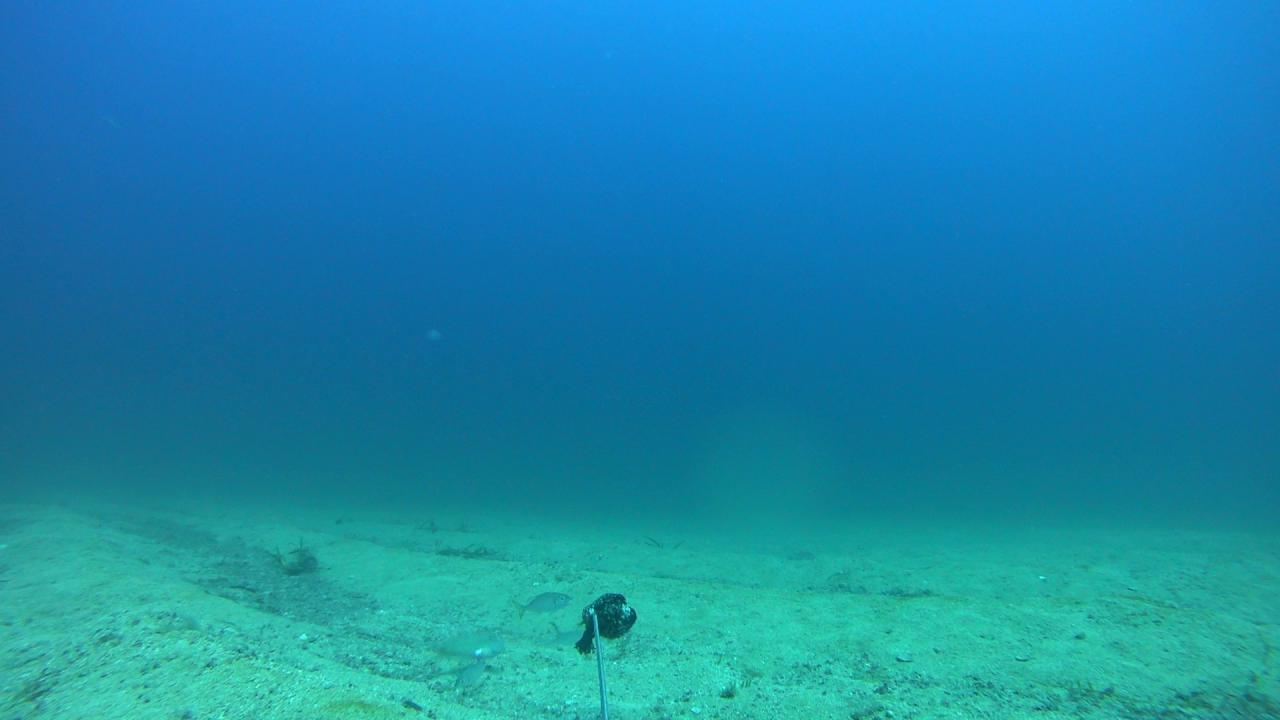pagellus: (510, 590, 574, 617), (457, 656, 490, 694)
raor: (430, 632, 510, 659)
